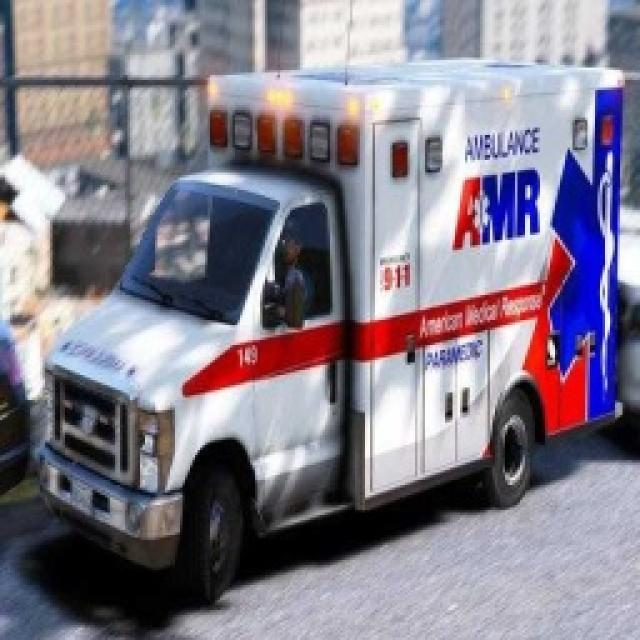emergency-vehicle: (42, 48, 639, 573)
